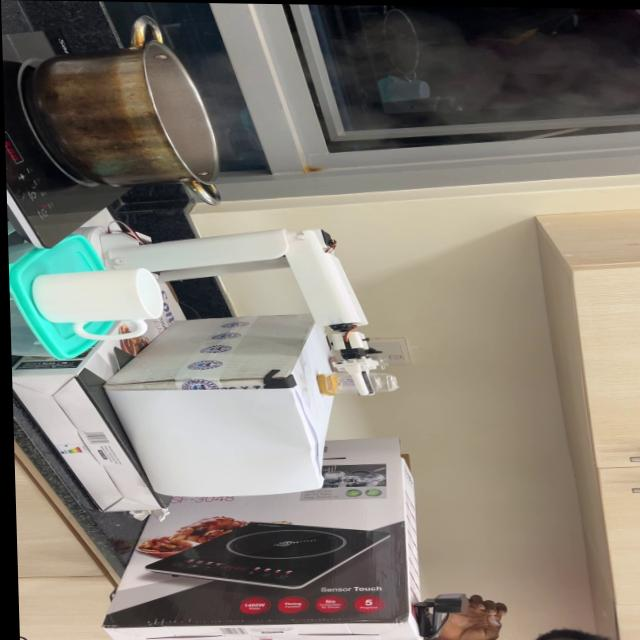cooking_pot: (28, 14, 226, 209)
garlic_powder: (311, 371, 332, 395)
